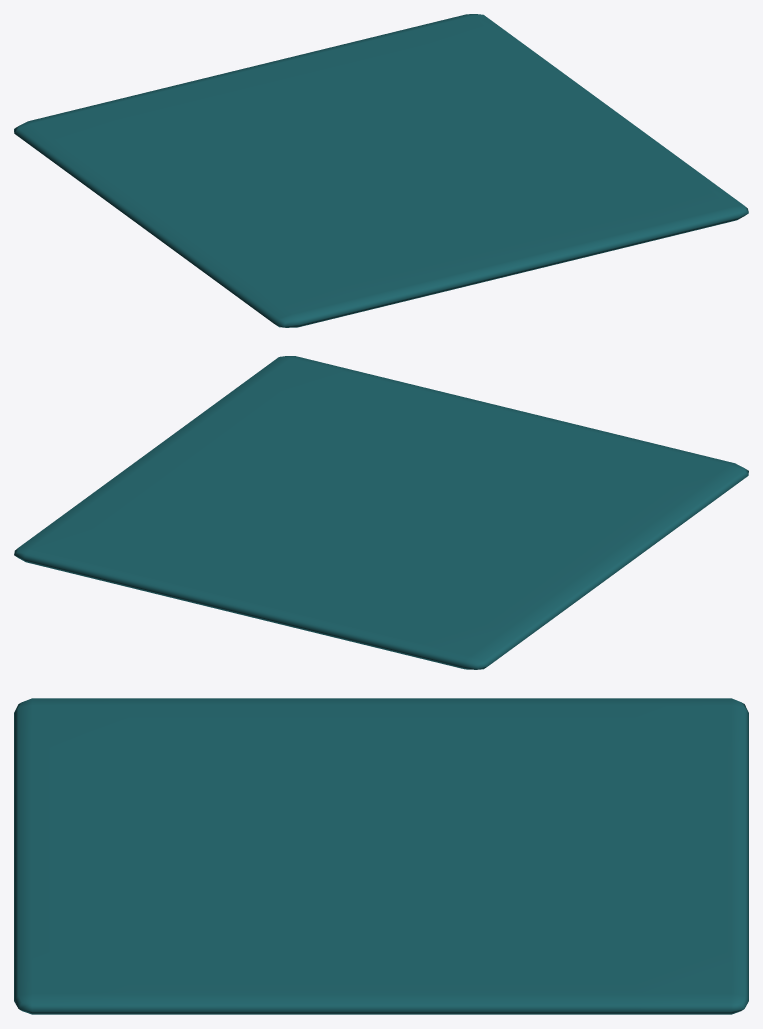
File: seaweed.fbx
3 renders of one model, top to bottom at view 1: azimuth 30°, elevation 25°; view 2: azimuth 150°, elevation 25°; view 3: azimuth 270°, elevation 25°, orthographic. The views are drawn at different scales.
Visible parts, largest first — view 1: pCube1; view 2: pCube1; view 3: pCube1.
Boxes of the visible parts, x1,y1,x2,y2 form: pCube1: [14, 14, 748, 327]; pCube1: [14, 356, 748, 669]; pCube1: [14, 698, 748, 1014].
Bounding box in the file's own units: 0.4948 × 0.0113 × 0.4948.
